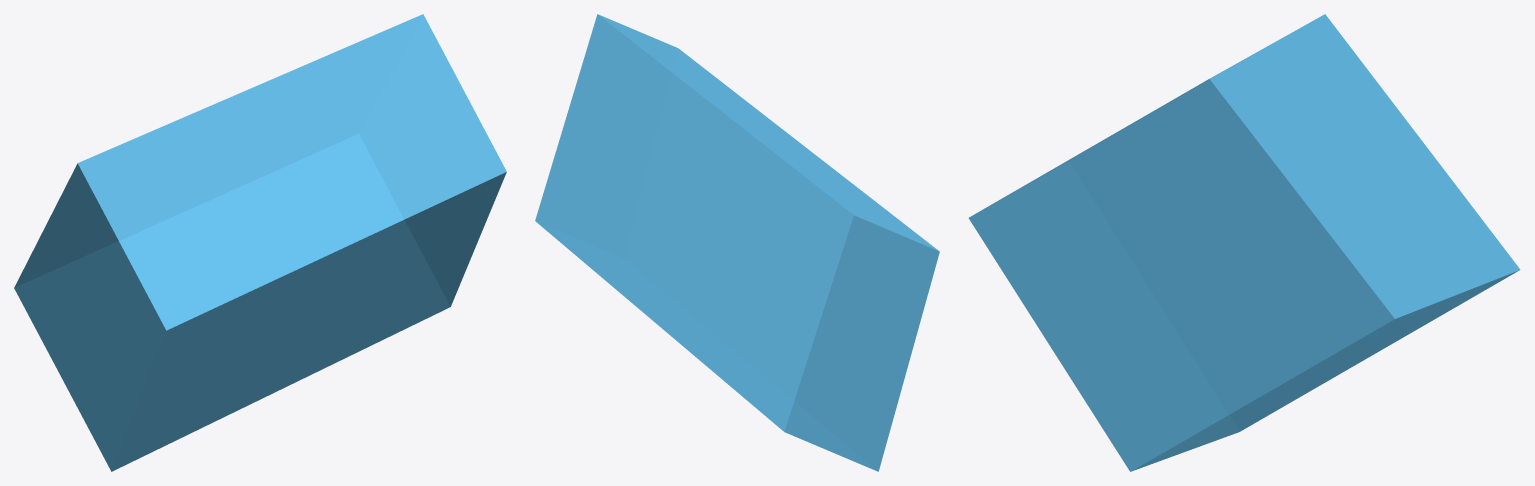
The model's file is Event_421364160_HErechit_1.fbx.
The picture shows the model from 3 angles, left to right: view 1: azimuth 30°, elevation 25°; view 2: azimuth 150°, elevation 25°; view 3: azimuth 270°, elevation 25°; orthographic projection. The views are drawn at different scales.
Visible parts, largest first — view 1: Model; view 2: Model; view 3: Model.
Boxes of the visible parts, left/top/right/bottom form: Model: left=14, top=14, right=506, bottom=471; Model: left=535, top=14, right=939, bottom=471; Model: left=968, top=14, right=1520, bottom=471.
Bounding box in the file's own units: 0.6274 × 0.7697 × 0.6818.
